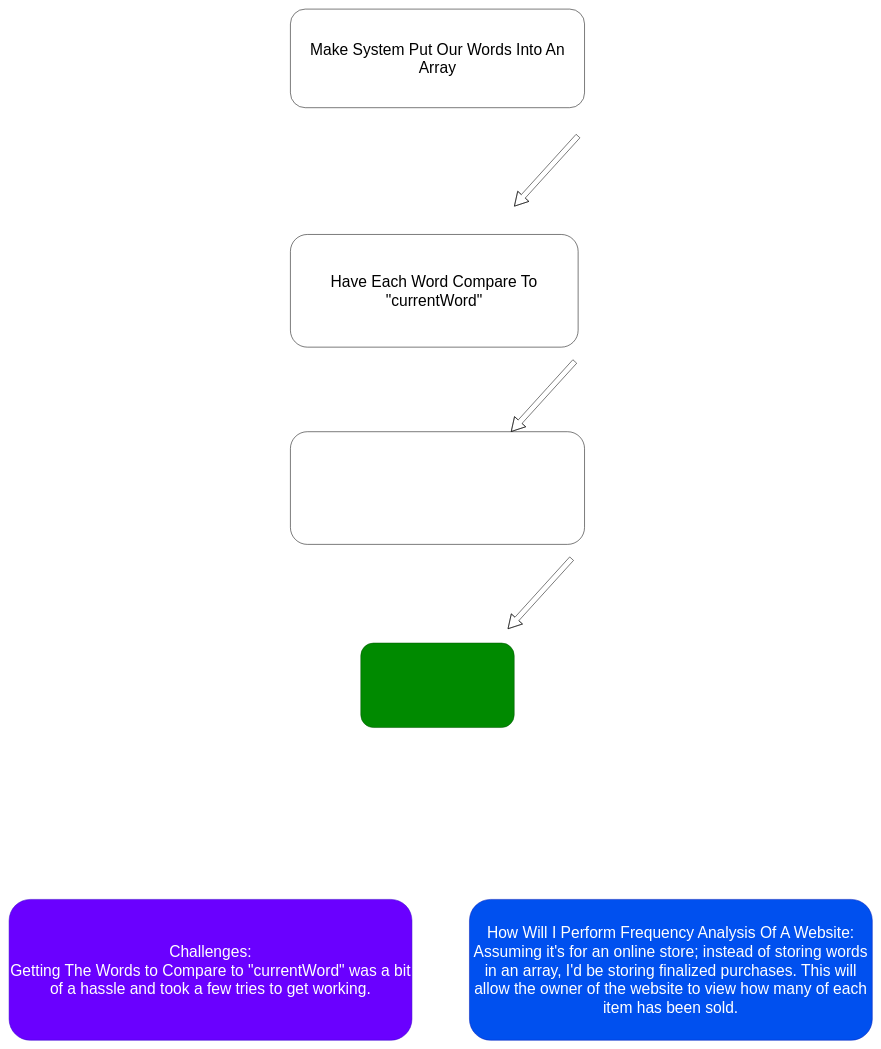
This 881x1049 diagram has some shape labels left out. The shapes that lost their labels are listed below. From the top down, each one's box as (x1, y1, x2, y2) in pixels, then its label:
(290, 431, 585, 544): Print How Many Times Each Word Was Inputted
(360, 643, 514, 728): Success!
